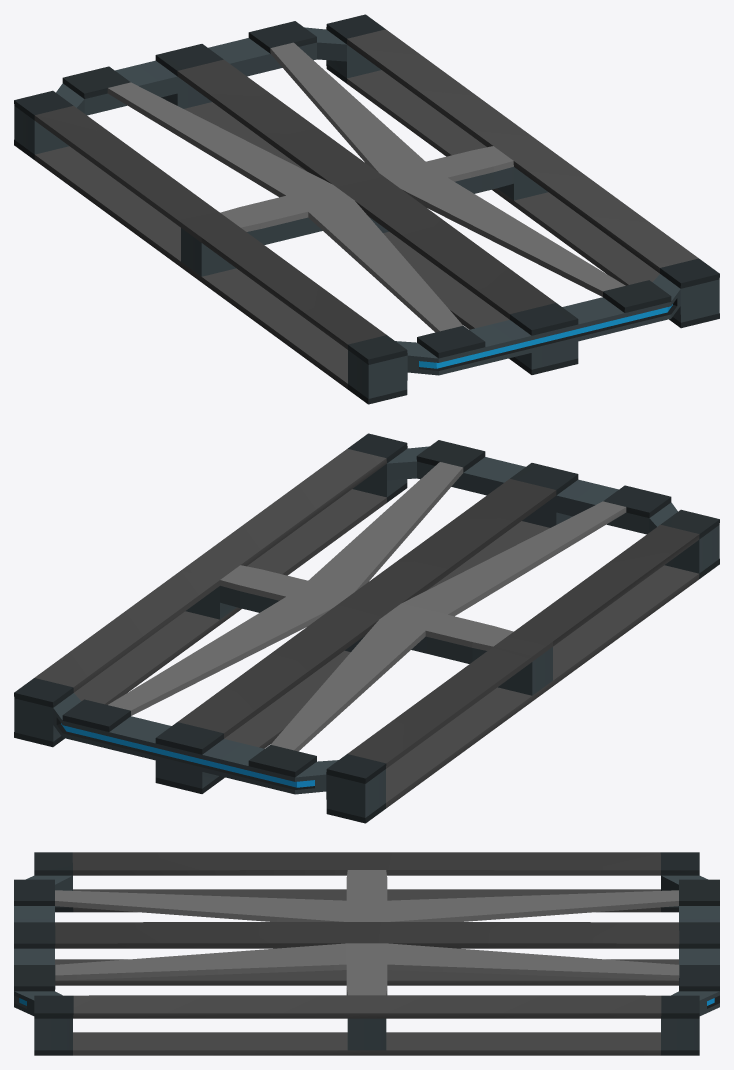
The model's file is Future Med Pallet.fbx.
The picture shows the model from 3 angles, top to bottom: view 1: azimuth 30°, elevation 25°; view 2: azimuth 150°, elevation 25°; view 3: azimuth 270°, elevation 25°; orthographic projection. The views are drawn at different scales.
Parts seen in each view (by area): view 1: Future Med Pallet; view 2: Future Med Pallet; view 3: Future Med Pallet.
Part boxes in pixels (x1,y1,x2,y2): Future Med Pallet: (14, 14, 719, 404); Future Med Pallet: (14, 433, 719, 823); Future Med Pallet: (14, 852, 719, 1055).
Size of the model in its own units: 38.68 by 582 by 314.
1 material, 1 textured.
